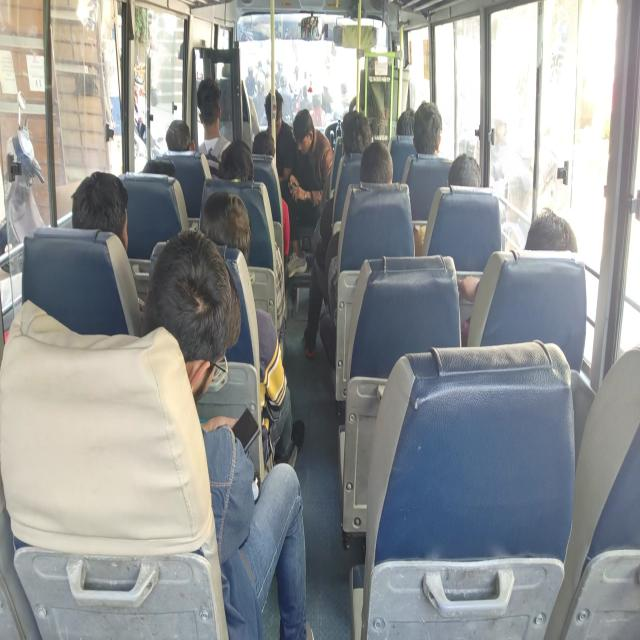person: (152, 235, 242, 391), (192, 186, 260, 268), (65, 172, 123, 247), (528, 215, 588, 278), (361, 139, 404, 216), (448, 156, 485, 218), (224, 147, 264, 199), (417, 93, 447, 155), (342, 107, 376, 159), (166, 114, 204, 160), (144, 144, 174, 197), (397, 107, 432, 147), (193, 84, 217, 142), (294, 109, 324, 148), (249, 132, 276, 164), (266, 85, 285, 128)
